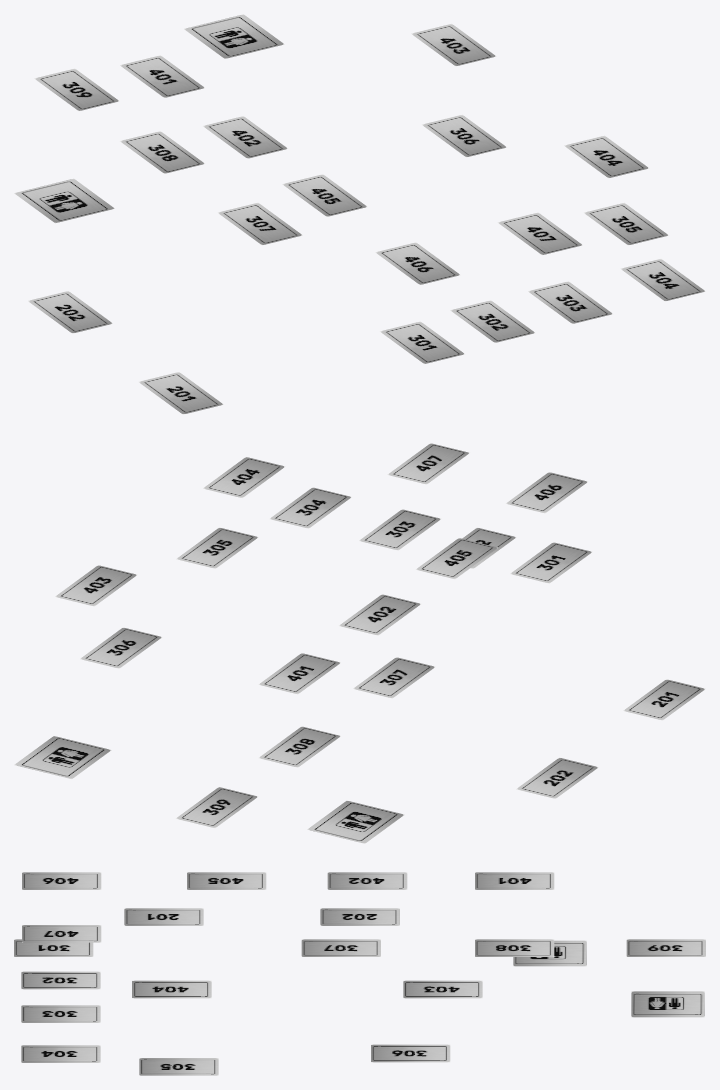
The model's file is Nimber_Сabinet.fbx.
3 renders of one model, top to bottom at view 1: azimuth 30°, elevation 25°; view 2: azimuth 150°, elevation 25°; view 3: azimuth 270°, elevation 25°, orthographic. The views are drawn at different scales.
Visible parts, largest first — view 1: Каб.3э Номер Туалет-2, Каб.2э Номер Туалет-1, Каб.4э Номер 407, Каб.3э Номер 307, Каб.4э Номер 402, Каб.4э Номер 404, Каб.4э Номер 403, Каб.4э Номер 401, Каб.3э Номер 308, Каб.3э Номер 304, Каб.3э Номер 303, Каб.3э Номер 305 (+8 smaller); view 2: Каб.2э Номер Туалет-1, Каб.3э Номер Туалет-2, Каб.3э Номер 303, Каб.3э Номер 306, Каб.4э Номер 407, Каб.3э Номер 301, Каб.3э Номер 305, Каб.2э Номер 201, Каб.3э Номер 307, Каб.4э Номер 402, Каб.4э Номер 401, Каб.3э Номер 304 (+8 smaller); view 3: Каб.3э Номер Туалет-2, Каб.4э Номер 404, Каб.4э Номер 403, Каб.3э Номер 302, Каб.3э Номер 306, Каб.4э Номер 402, Каб.3э Номер 307, Каб.4э Номер 405, Каб.4э Номер 406, Каб.4э Номер 407, Каб.4э Номер 401, Каб.3э Номер 308 (+8 smaller).
Part boxes in pixels (<box>): Каб.3э Номер Туалет-2: <box>184,14,284,58</box>; Каб.2э Номер Туалет-1: <box>14,178,114,223</box>; Каб.4э Номер 407: <box>497,212,582,255</box>; Каб.3э Номер 307: <box>218,202,302,245</box>; Каб.4э Номер 402: <box>203,116,287,158</box>; Каб.4э Номер 404: <box>564,135,649,178</box>; Каб.4э Номер 403: <box>411,23,496,66</box>; Каб.4э Номер 401: <box>120,55,204,97</box>; Каб.3э Номер 308: <box>120,131,204,173</box>; Каб.3э Номер 304: <box>620,259,705,301</box>; Каб.3э Номер 303: <box>528,281,612,323</box>; Каб.3э Номер 305: <box>584,202,668,245</box>; Каб.2э Номер Туалет-1: <box>307,800,404,843</box>; Каб.3э Номер Туалет-2: <box>14,736,111,778</box>; Каб.3э Номер 303: <box>359,509,441,550</box>; Каб.3э Номер 306: <box>80,627,162,668</box>; Каб.4э Номер 407: <box>387,443,469,484</box>; Каб.3э Номер 301: <box>510,542,592,583</box>; Каб.3э Номер 305: <box>176,527,258,568</box>; Каб.2э Номер 201: <box>623,679,705,720</box>; Каб.3э Номер 307: <box>353,657,435,698</box>; Каб.4э Номер 402: <box>339,594,420,635</box>; Каб.4э Номер 401: <box>258,653,340,694</box>; Каб.3э Номер 304: <box>270,487,351,528</box>; Каб.3э Номер Туалет-2: <box>631,991,704,1017</box>; Каб.4э Номер 404: <box>132,980,211,998</box>; Каб.4э Номер 403: <box>403,980,482,998</box>; Каб.3э Номер 302: <box>21,971,100,989</box>; Каб.3э Номер 306: <box>371,1044,450,1062</box>; Каб.4э Номер 402: <box>327,872,407,889</box>; Каб.3э Номер 307: <box>301,939,380,956</box>; Каб.4э Номер 405: <box>187,872,266,889</box>; Каб.4э Номер 406: <box>22,872,101,889</box>; Каб.4э Номер 407: <box>22,925,101,942</box>; Каб.4э Номер 401: <box>475,872,554,889</box>; Каб.3э Номер 308: <box>475,939,554,956</box>.
Bounding box in the file's own units: 2416 × 598 × 3303.
